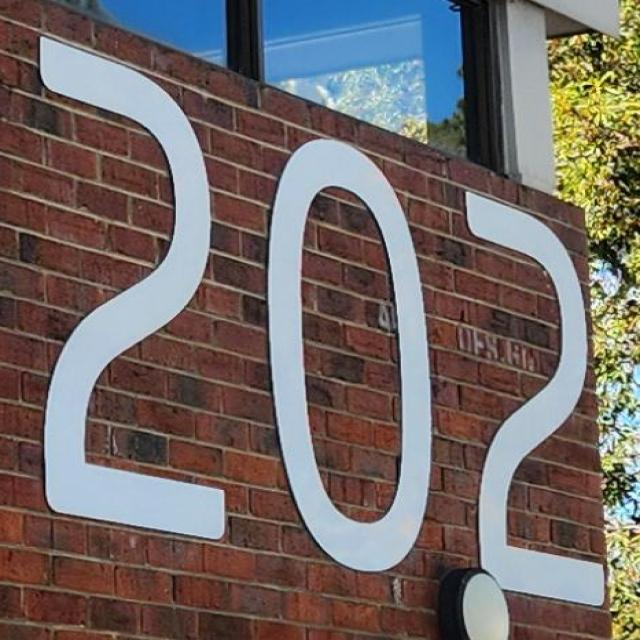character: (35, 33, 231, 545), (266, 135, 441, 576), (462, 187, 612, 608)
